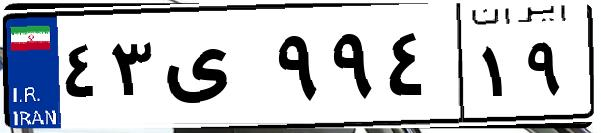1: (475, 38, 525, 113)
3: (110, 28, 158, 98)
4: (385, 28, 445, 110), (57, 26, 110, 100)
9: (270, 28, 330, 110), (330, 28, 385, 110), (525, 38, 570, 115)
ی: (158, 20, 270, 120)
